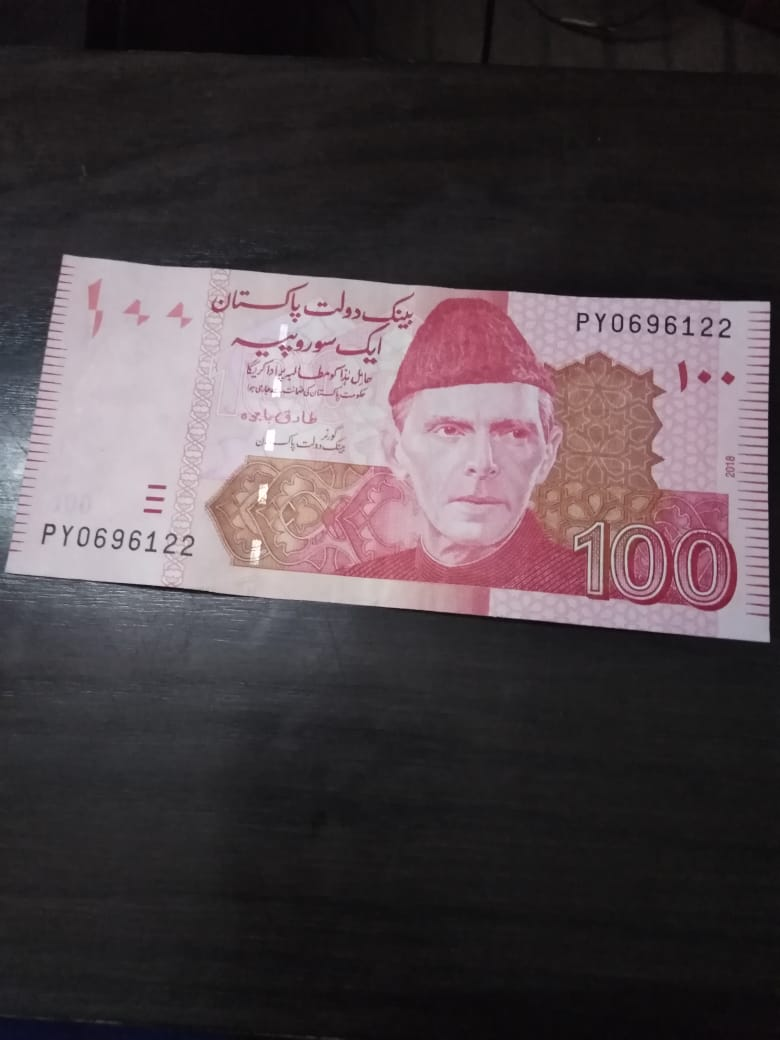100 rupee: (9, 243, 773, 648)
